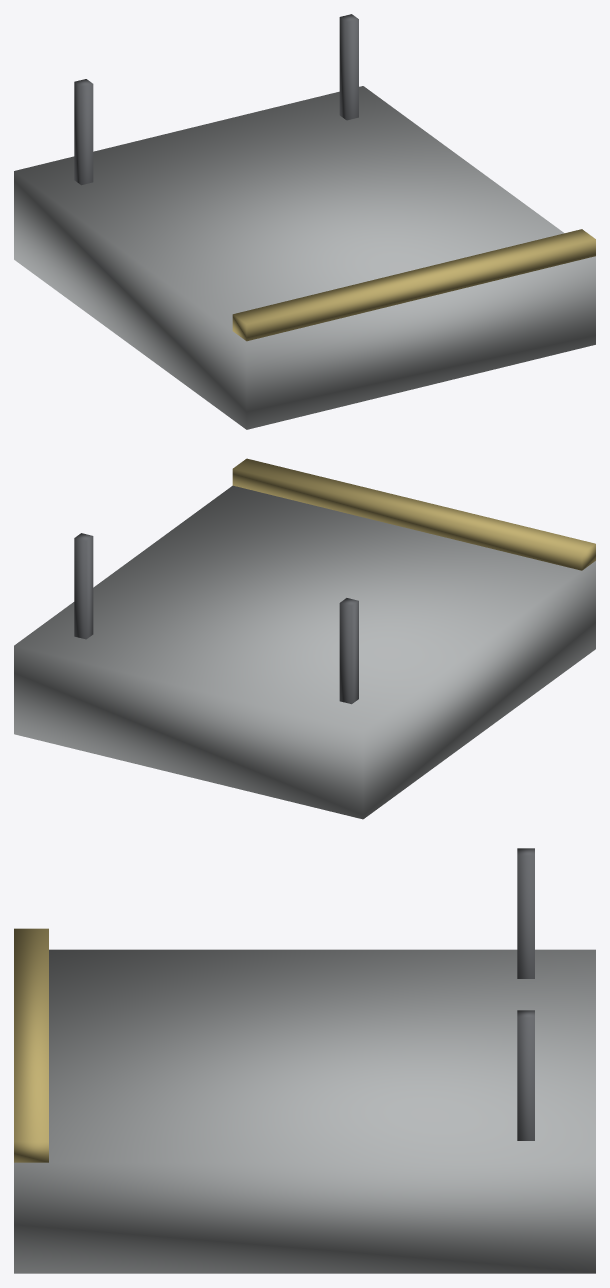
File: loading_dock_20.glb
The picture shows the model from 3 angles, top to bottom: view 1: azimuth 30°, elevation 25°; view 2: azimuth 150°, elevation 25°; view 3: azimuth 270°, elevation 25°; orthographic projection. The views are drawn at different scales.
Parts seen in each view (by area): view 1: world; view 2: world; view 3: world.
Part boxes in pixels (x1,y1,x2,y2): world: (14,14,595,429); world: (14,458,595,819); world: (14,848,595,1273).
Size of the model in its own units: 2.6 by 1.33 by 3.
